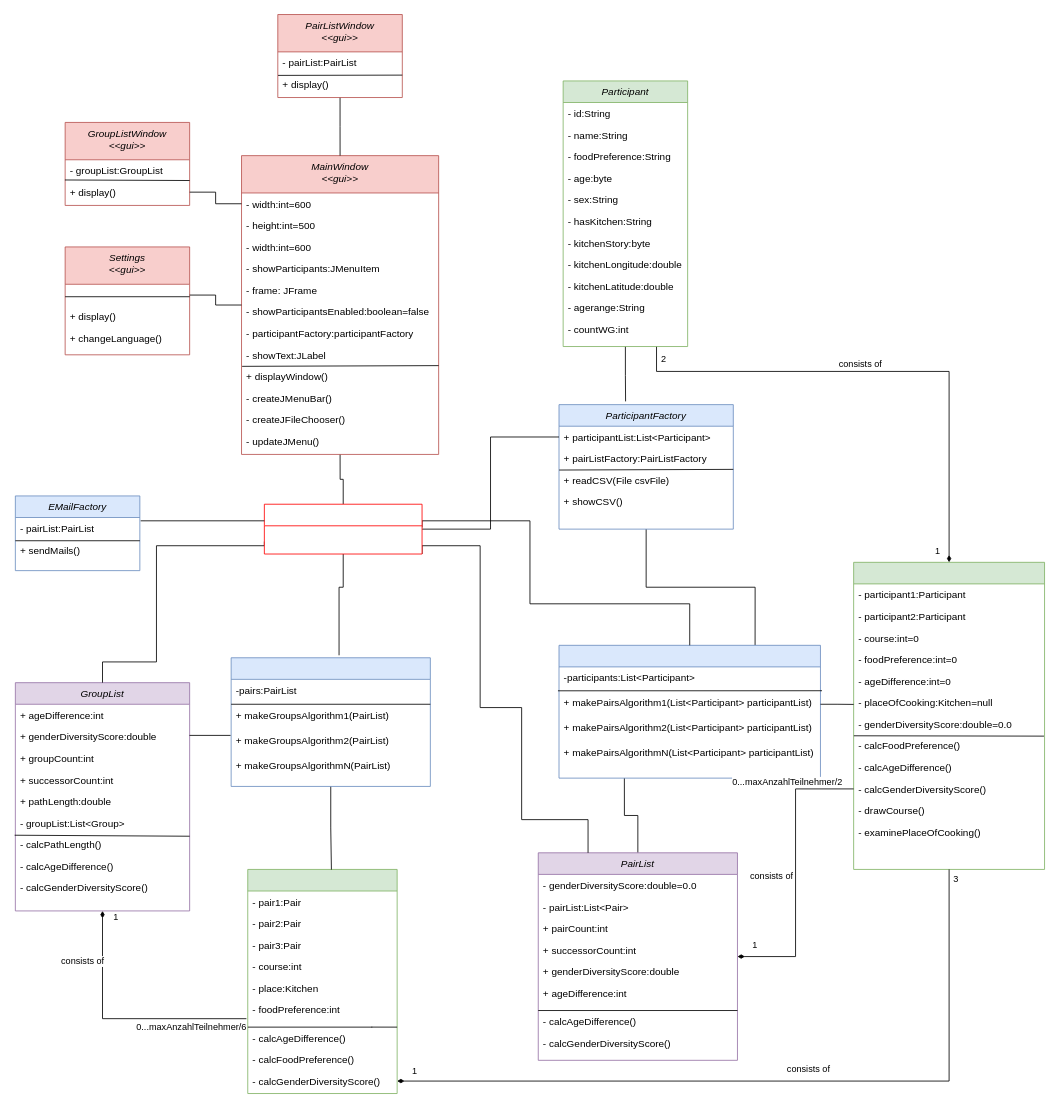
This 1060x1109 diagram has some shape labels left out. The shapes that lost their labels are listed below. From the top down, each one's box as (x1, y1, x2, y2) in pixels, then its label:
(264, 503, 422, 554): Main
(230, 657, 430, 786): GroupListFactory
(558, 644, 820, 778): PairListFactory
(853, 561, 1045, 869): Pair
(247, 869, 397, 1094): Group
